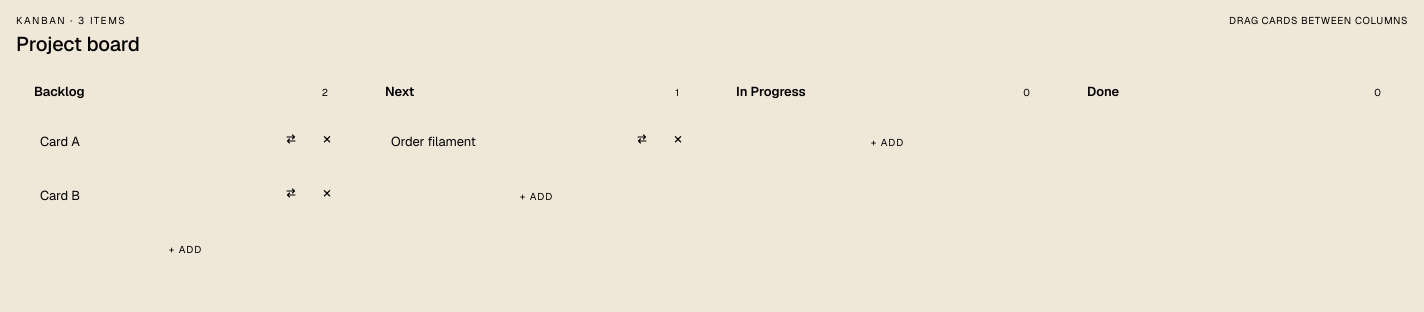
Test: R4C-2: a read never lands across the board's own writes › a failed write that ends while another write's re-read is owed does that read — after both
Step 1. Click the button named "Move Card A" → (291, 139), box [279,127,303,151]
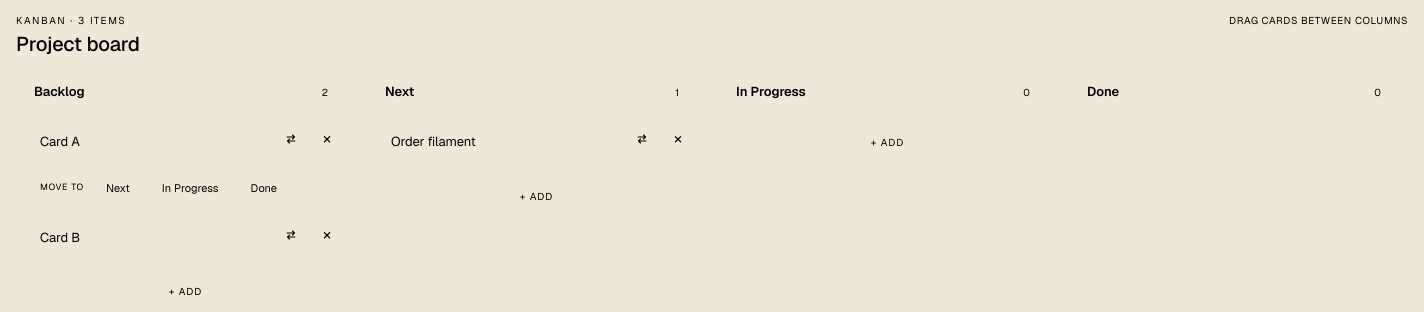
Step 2. Click the button "Next" → (118, 188), box [94,174,142,200]
Wait 1240 ms
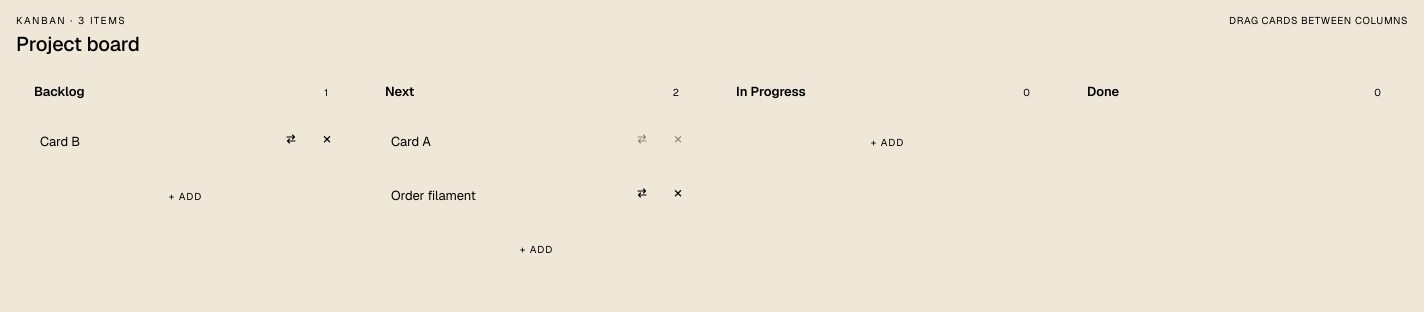
Step 3. Click the button named "Delete Order filament" → (678, 192), box [666,180,690,204]
Wait 8600 ms
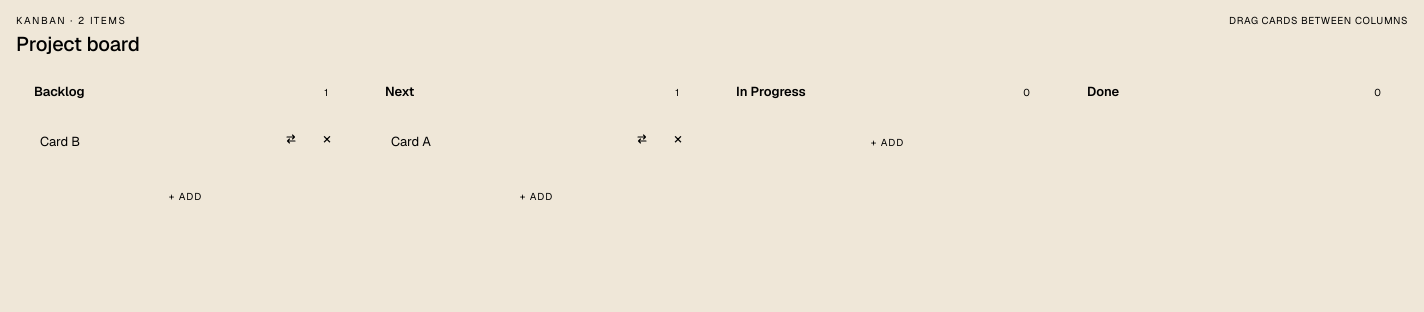
Result: the text "Order filament" is gone
